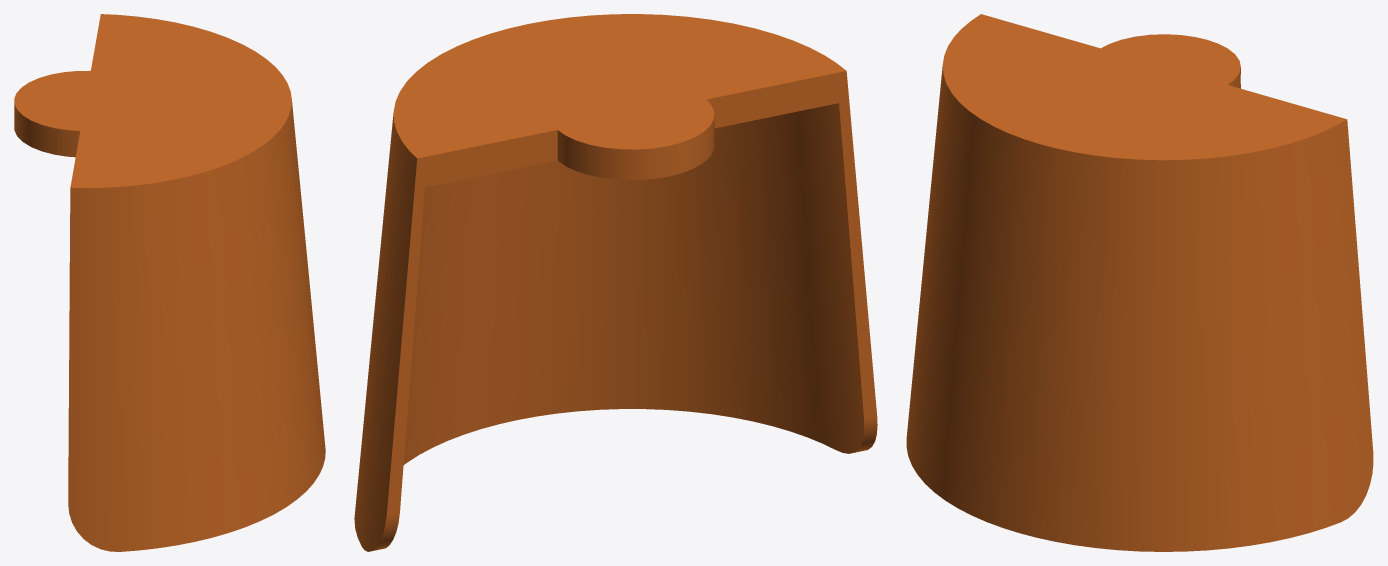
Rendered from cups_taker.fbx.
3 renders of one model, left to right at view 1: azimuth 30°, elevation 25°; view 2: azimuth 150°, elevation 25°; view 3: azimuth 270°, elevation 25°, orthographic. The views are drawn at different scales.
Parts seen in each view (by area): view 1: Body1; view 2: Body1; view 3: Body1.
Boxes of the visible parts, x1,y1,x2,y2 form: Body1: (14,14,325,551); Body1: (354,14,877,551); Body1: (906,14,1373,551).
Size of the model in its own units: 57.33 by 59.5 by 66.91.
